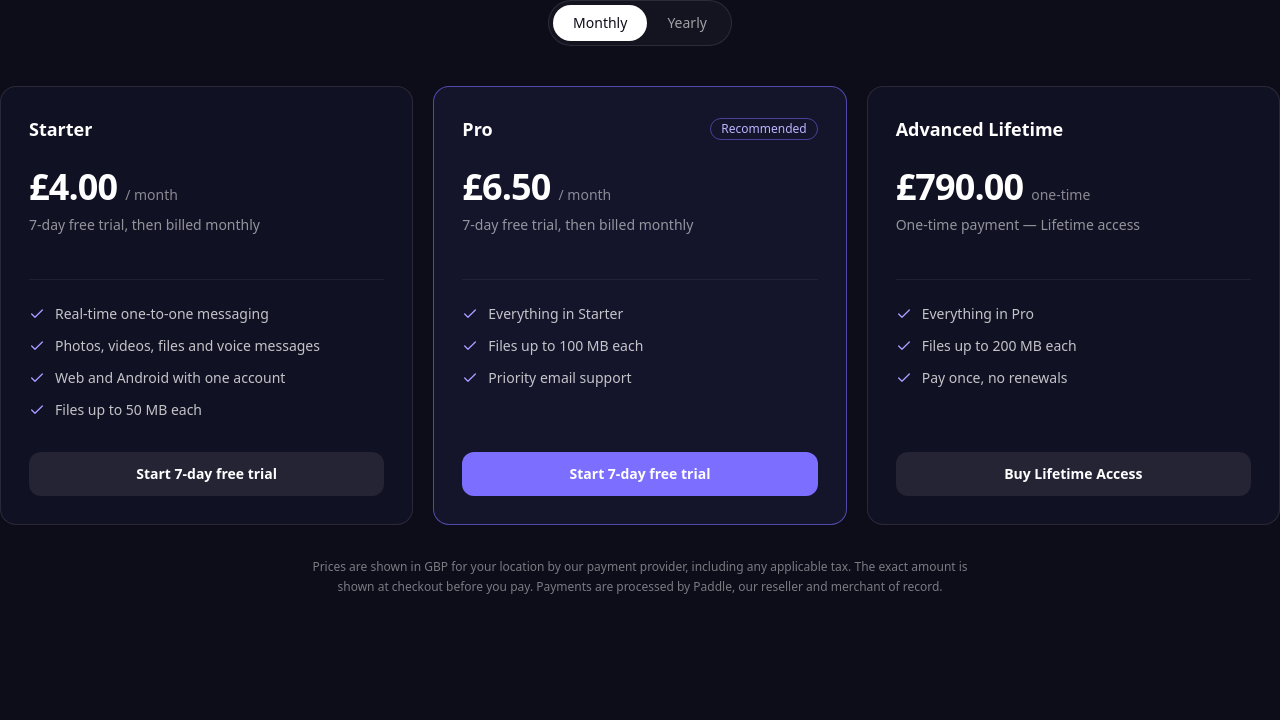
pricing table › tells a subscriber buying Lifetime to cancel the old subscription
Click the button "Buy Lifetime Access" at point(1073, 474), box [896, 452, 1251, 496]
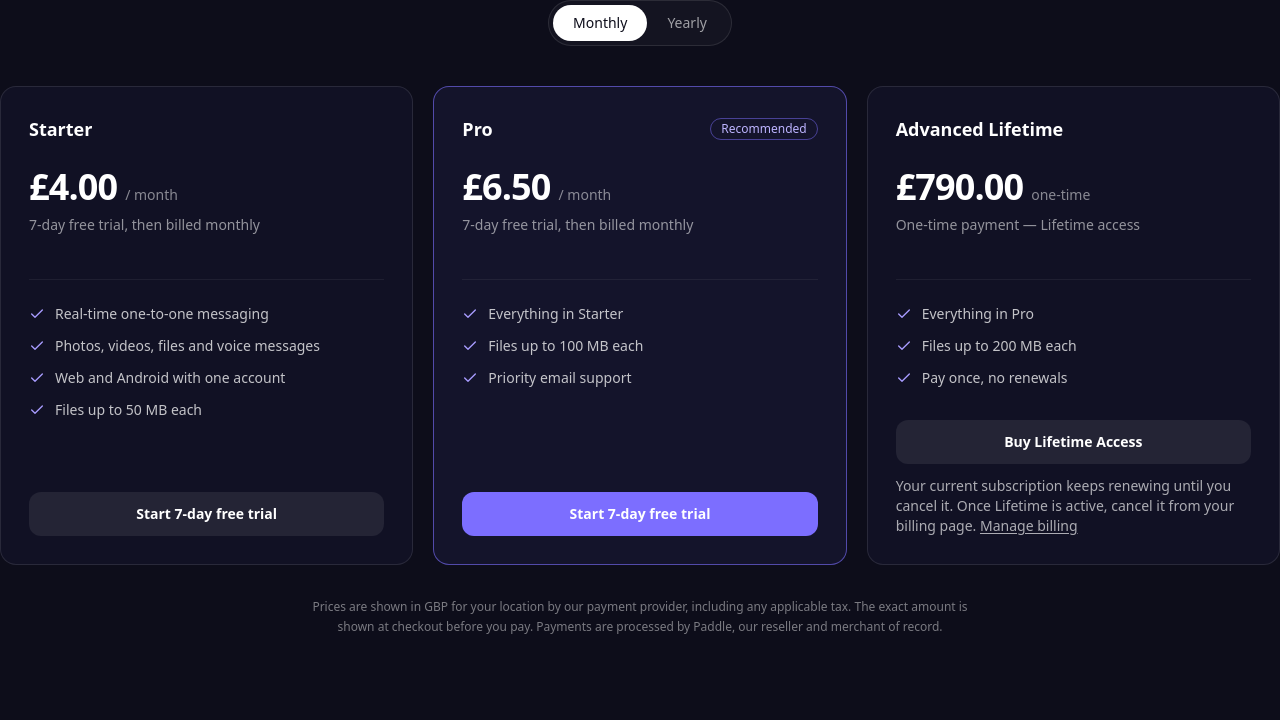
Expected: the message shows "cancel it from your billing page", [896, 476, 1234, 535]
